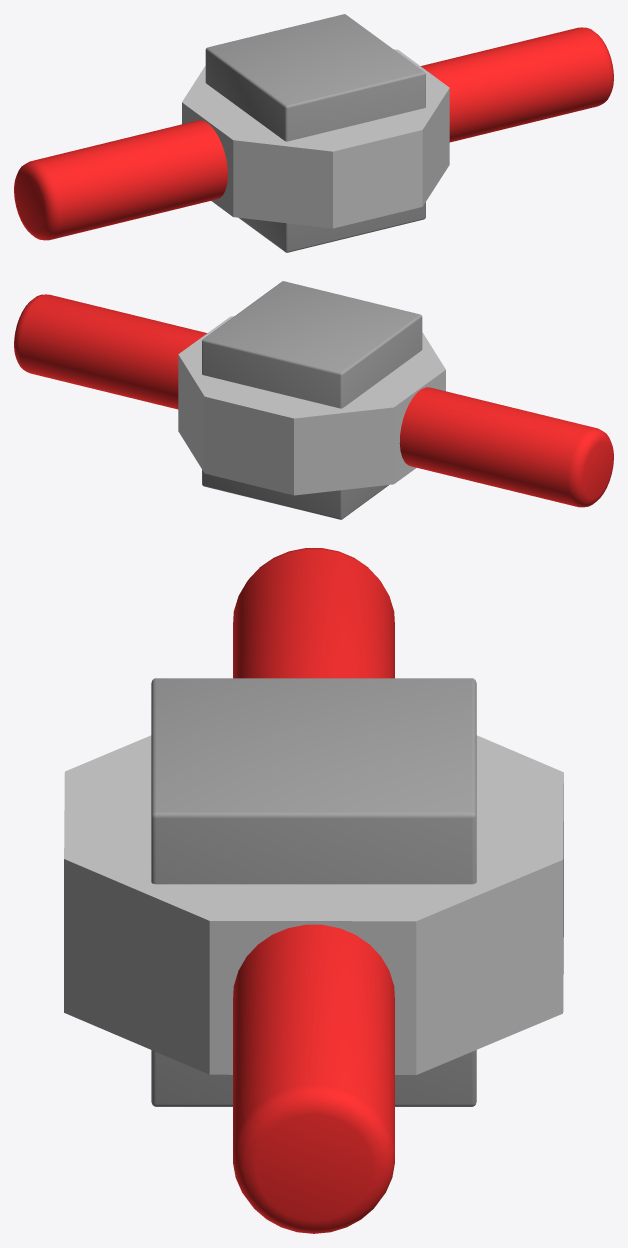
File: RotatorBlock.fbx
The picture shows the model from 3 angles, top to bottom: view 1: azimuth 30°, elevation 25°; view 2: azimuth 150°, elevation 25°; view 3: azimuth 270°, elevation 25°; orthographic projection. The views are drawn at different scales.
Parts seen in each view (by area): view 1: Cylinder, Cube; view 2: Cylinder, Cube; view 3: Cylinder, Cube.
Boxes of the visible parts, x1,y1,x2,y2 form: Cylinder: (14,27,613,240); Cube: (205,14,425,252); Cylinder: (14,294,613,507); Cube: (202,281,422,519); Cylinder: (64,548,563,1233); Cube: (151,678,476,1106).
Bounding box in the file's own units: 807 × 200 × 308.
